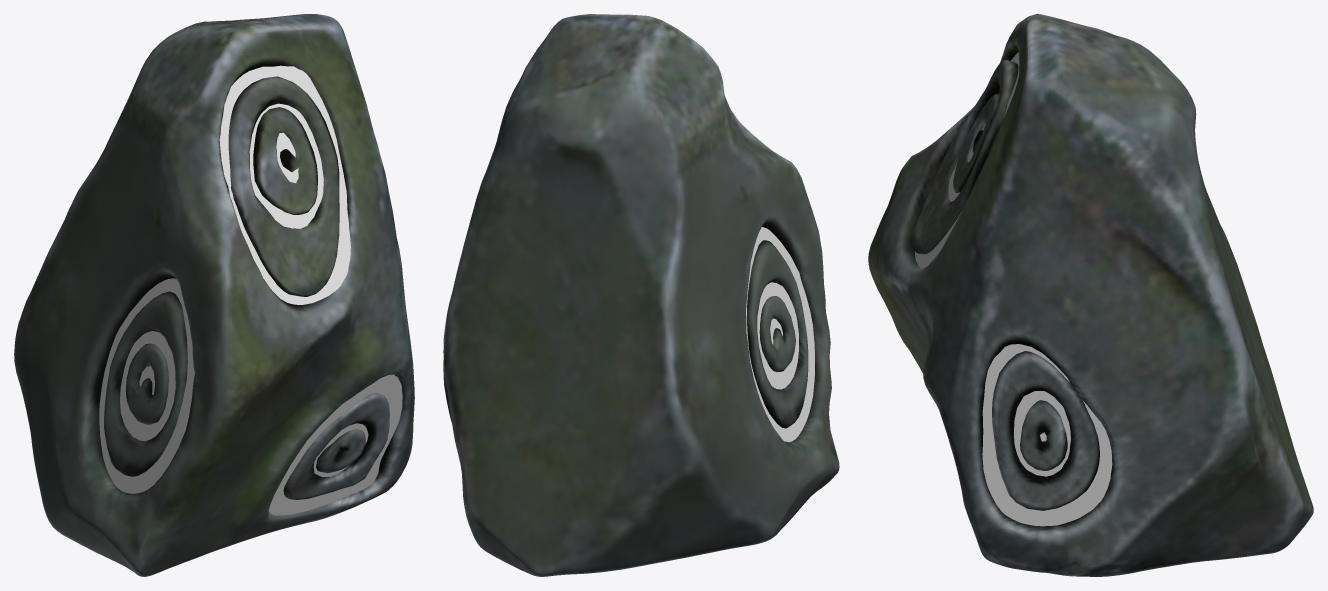
File: Stone5.fbx
3 views of the same model, side by side, from view 1: azimuth 30°, elevation 25°; view 2: azimuth 150°, elevation 25°; view 3: azimuth 270°, elevation 25° (orthographic). The views are drawn at different scales.
Visible parts, largest first — view 1: Stone5, Plane, Plane.001, Plane.002; view 2: Stone5, Plane.001; view 3: Stone5, Plane.002, Plane.
Part boxes in pixels (x1,y1,x2,y2): Stone5: [14, 14, 414, 576]; Plane: [219, 65, 350, 304]; Plane.001: [99, 278, 194, 493]; Plane.002: [268, 374, 402, 515]; Stone5: [443, 14, 839, 576]; Plane.001: [746, 227, 814, 441]; Stone5: [868, 14, 1313, 576]; Plane.002: [982, 344, 1112, 526]; Plane: [915, 52, 1019, 268].
Bounding box in the file's own units: 122 × 187 × 150.
1 material, 1 textured.
